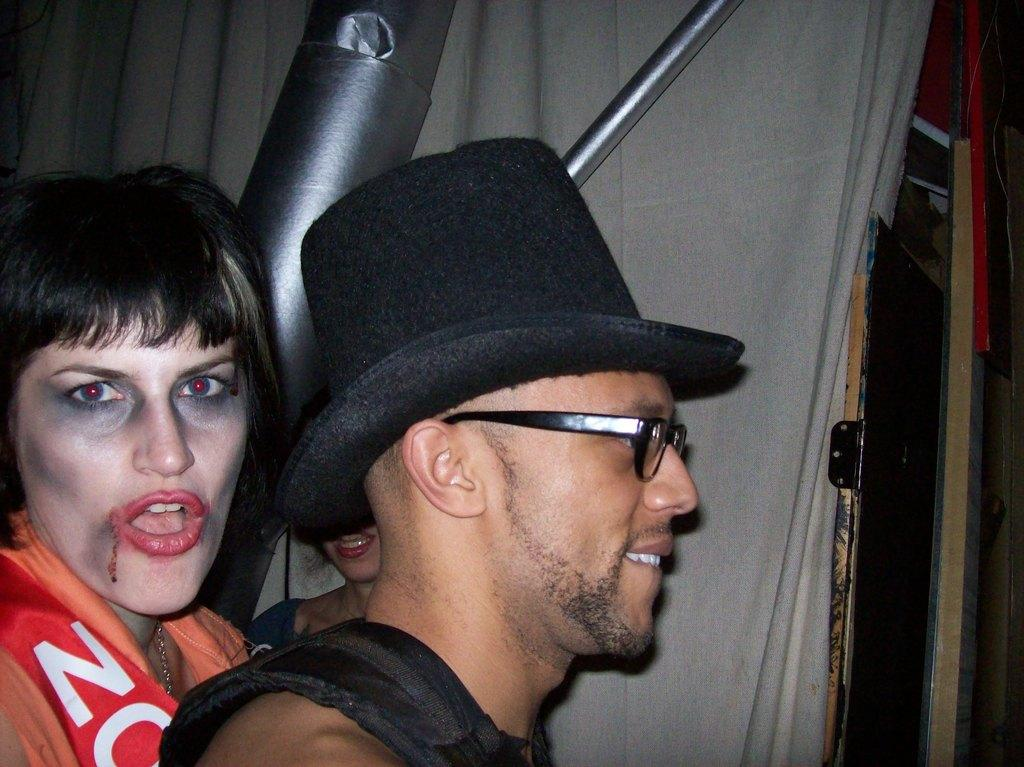Hat: (274, 136, 750, 548)
